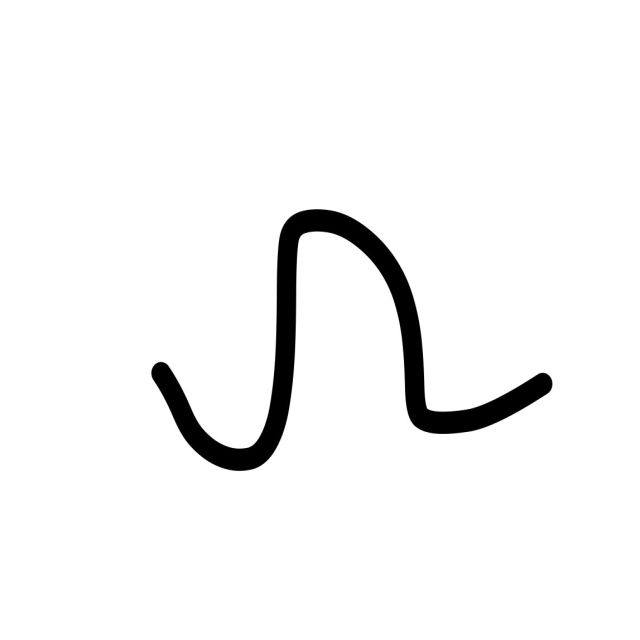ohms: (51, 108, 570, 507)
